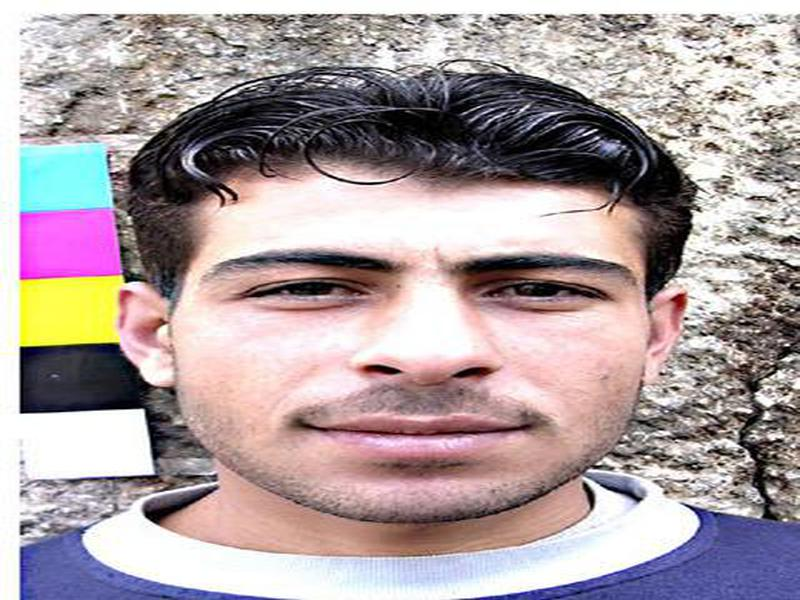without_mask: (170, 168, 649, 529)
